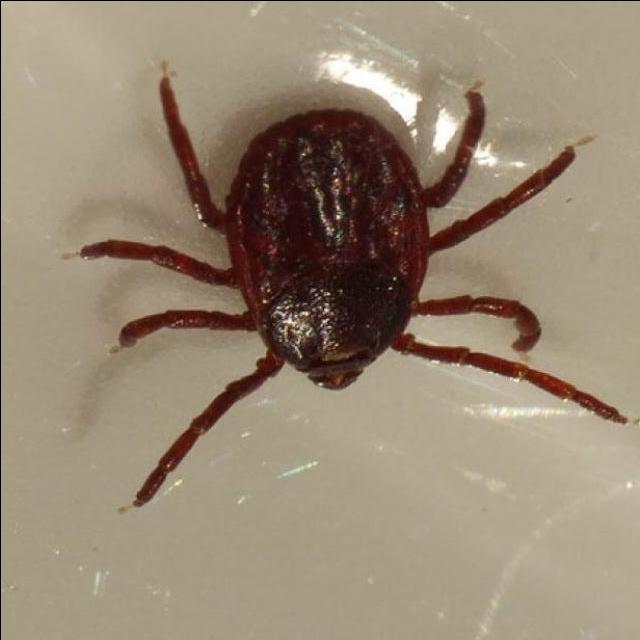Rhipicephalus Sanguineus-F: (75, 72, 632, 506)
